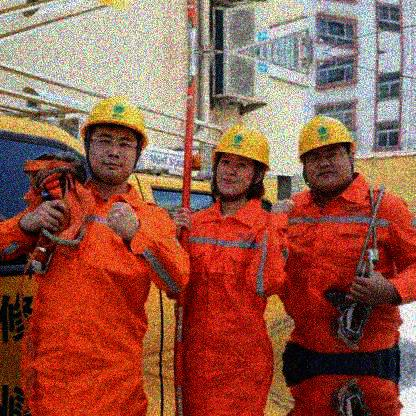helmet: (79, 96, 149, 179), (297, 115, 357, 188), (213, 124, 272, 195)
